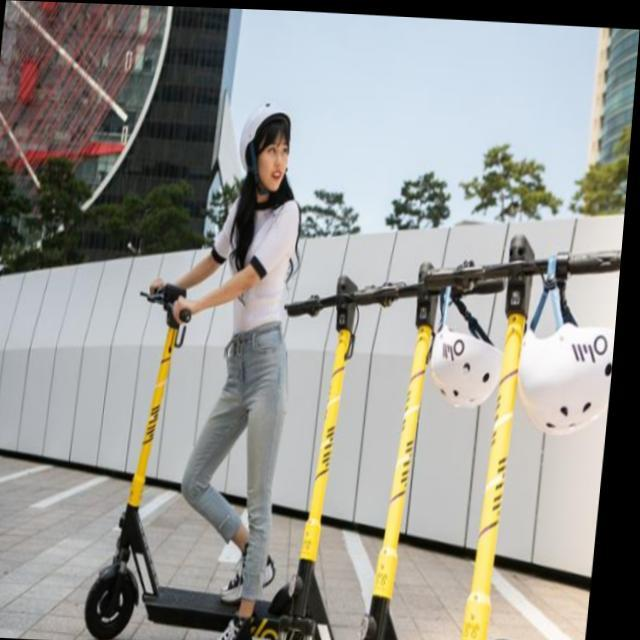Helmet: (232, 95, 306, 203)
